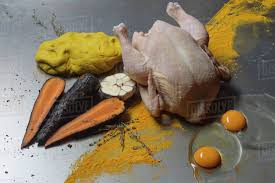Chicken: (115, 14, 222, 113)
